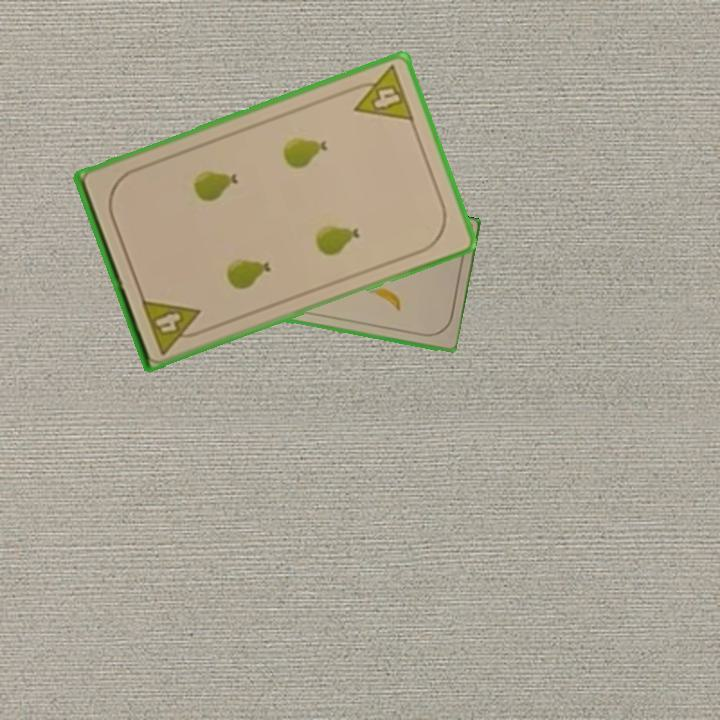4p: (137, 294, 209, 358), (344, 62, 417, 124)
